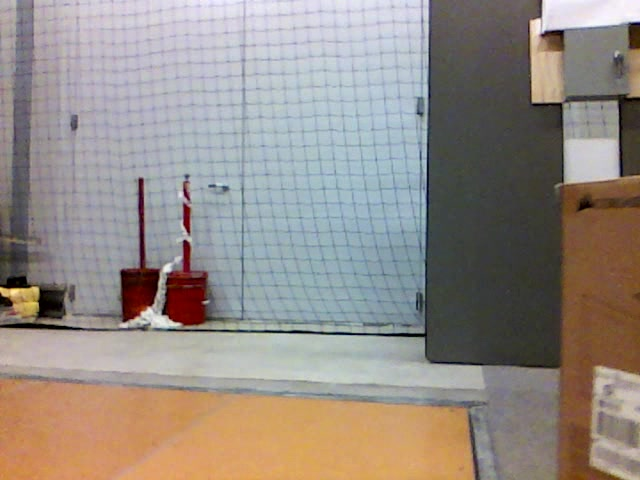box: (560, 177, 640, 480)
